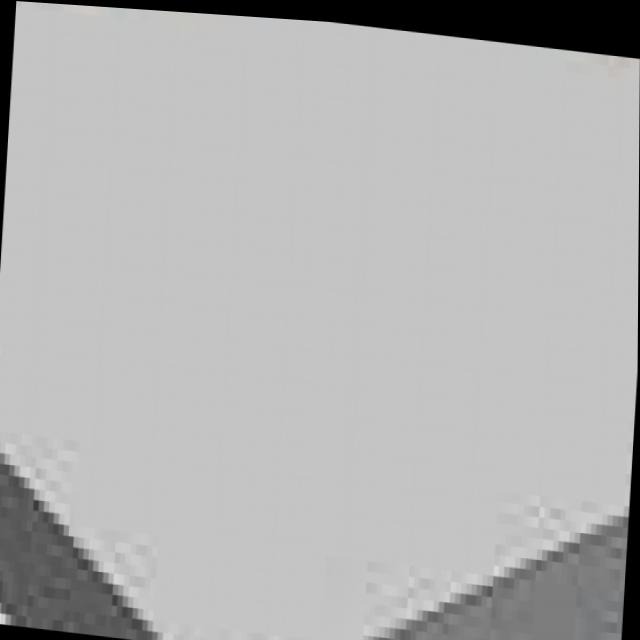metal-plates: (1, 2, 640, 640)
